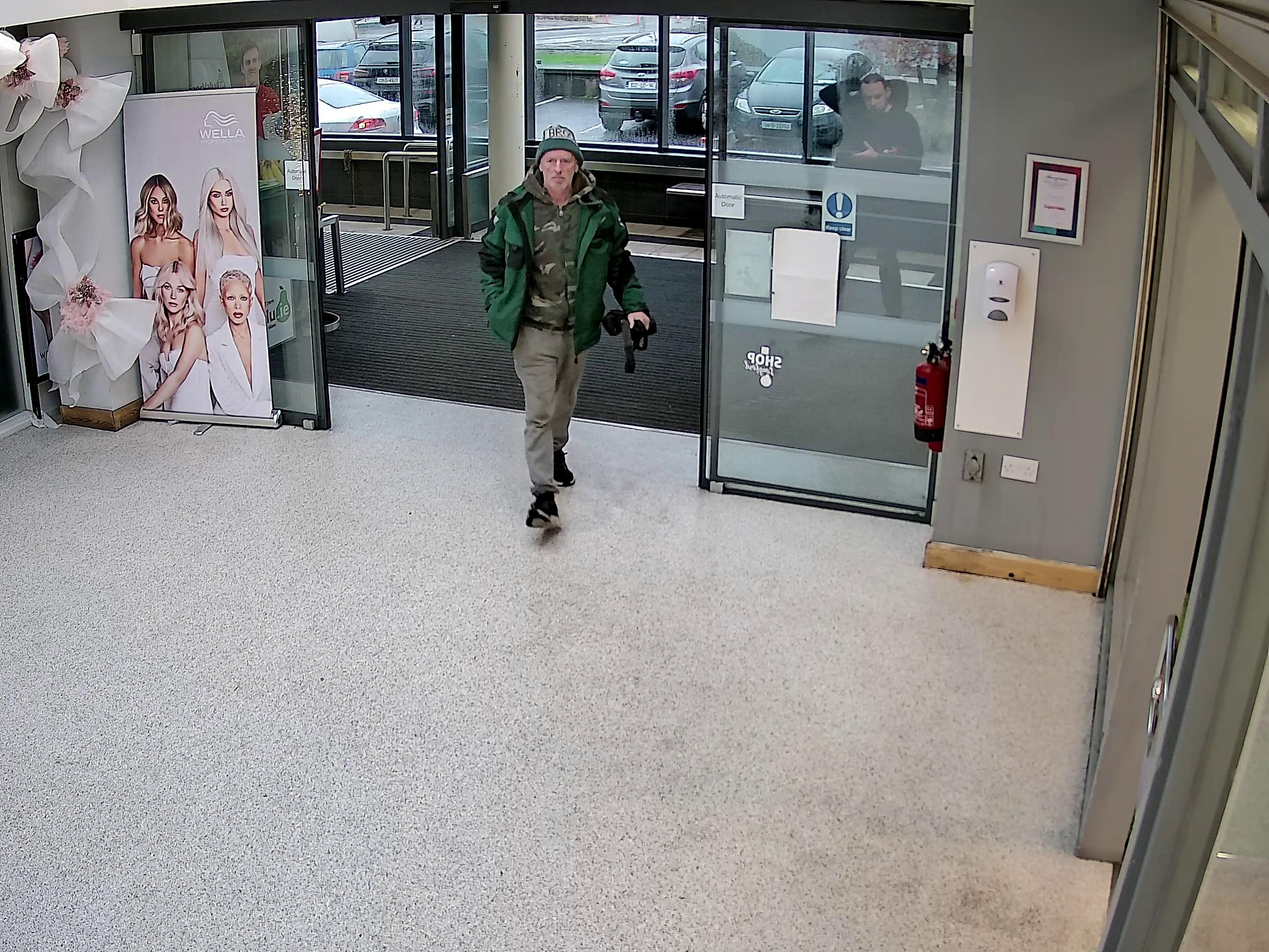empty-shopping-bags: (601, 307, 659, 371)
person: (480, 122, 650, 531)
person-with-empty-shopping-bag-s-: (480, 121, 659, 533)
